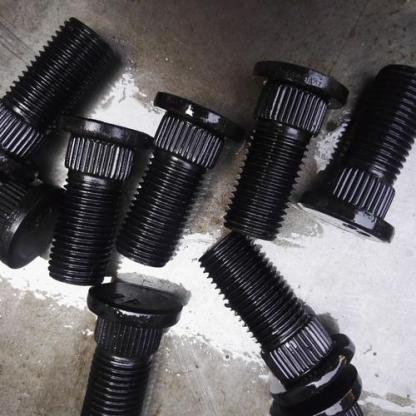FOD: (192, 228, 344, 389), (113, 83, 242, 269), (221, 55, 347, 243), (300, 60, 415, 248), (46, 116, 150, 284), (73, 277, 186, 415), (0, 13, 108, 157)
